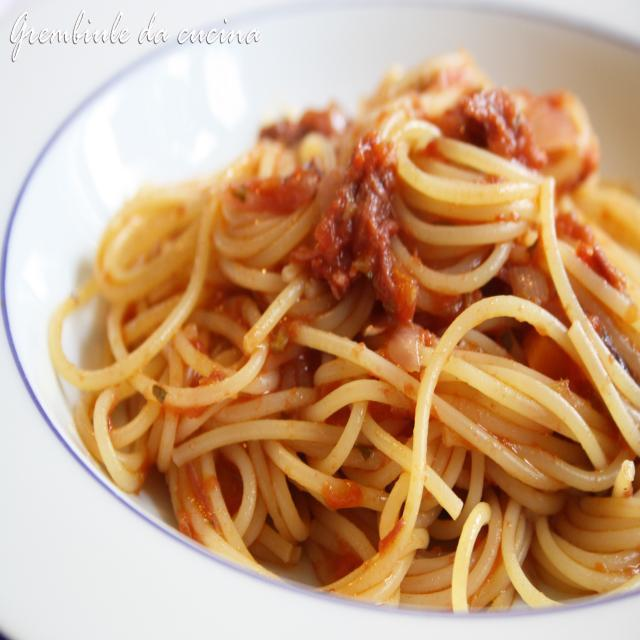Pasta al ragu: (111, 84, 639, 583)
